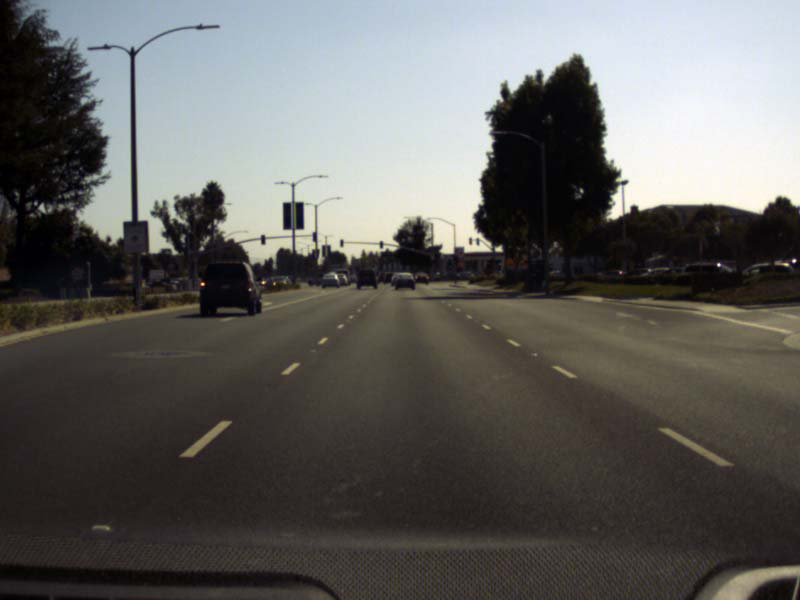Green: (455, 255, 457, 264)
